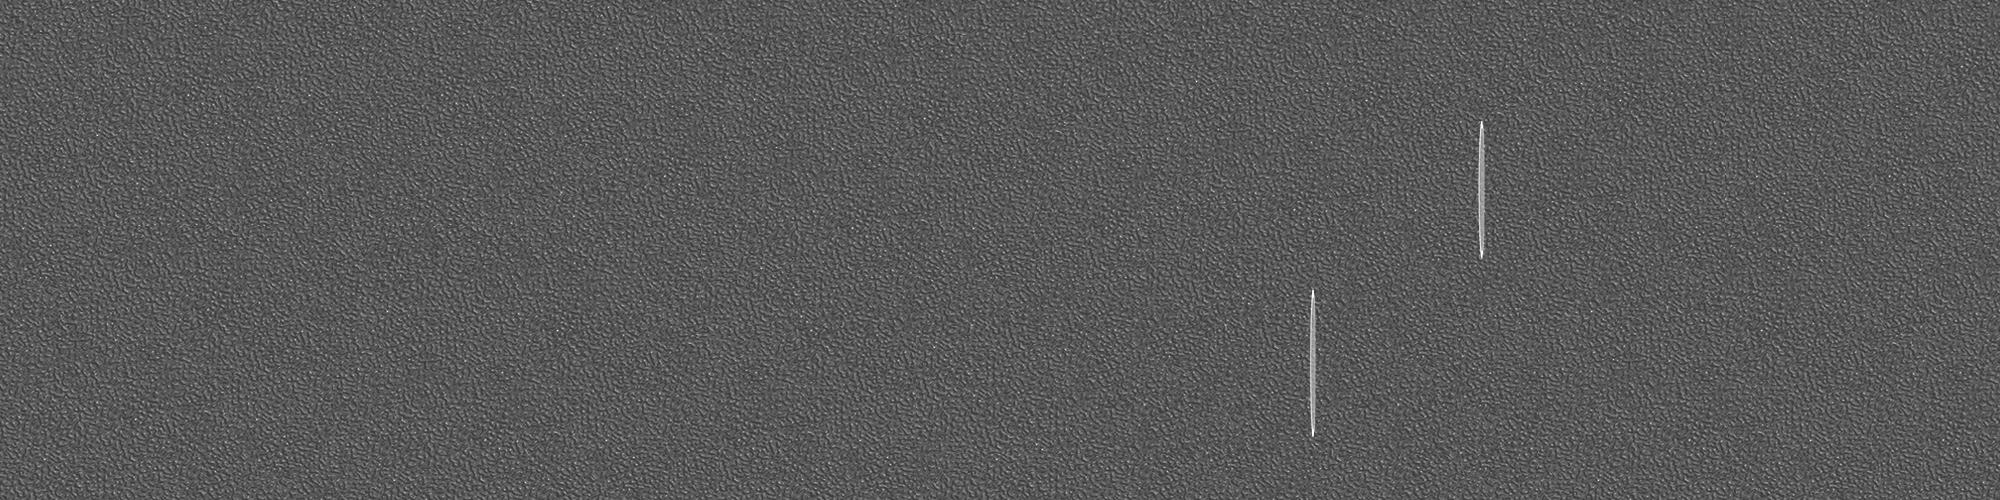Streaks: (1292, 287, 1329, 443), (1466, 114, 1497, 264)
